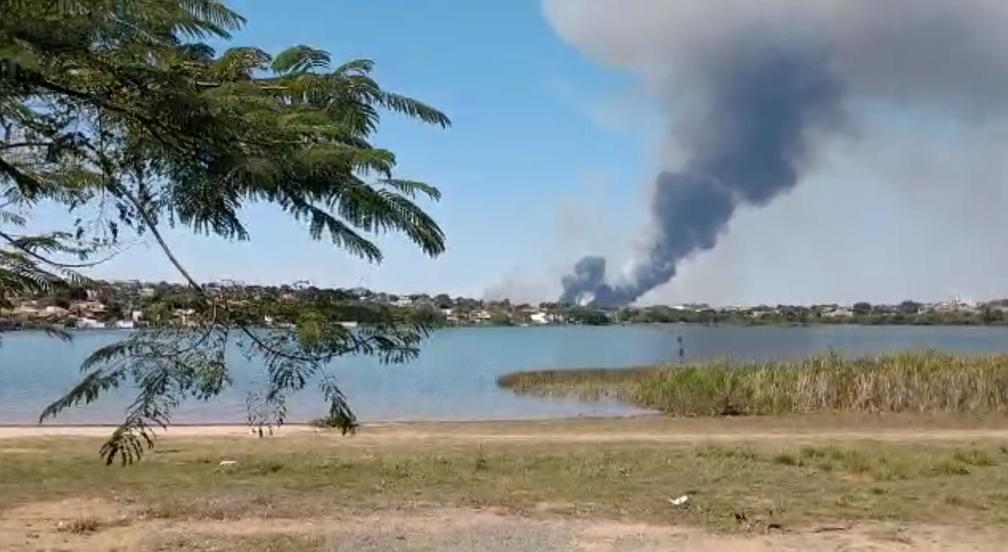smoke: (676, 16, 834, 127)
